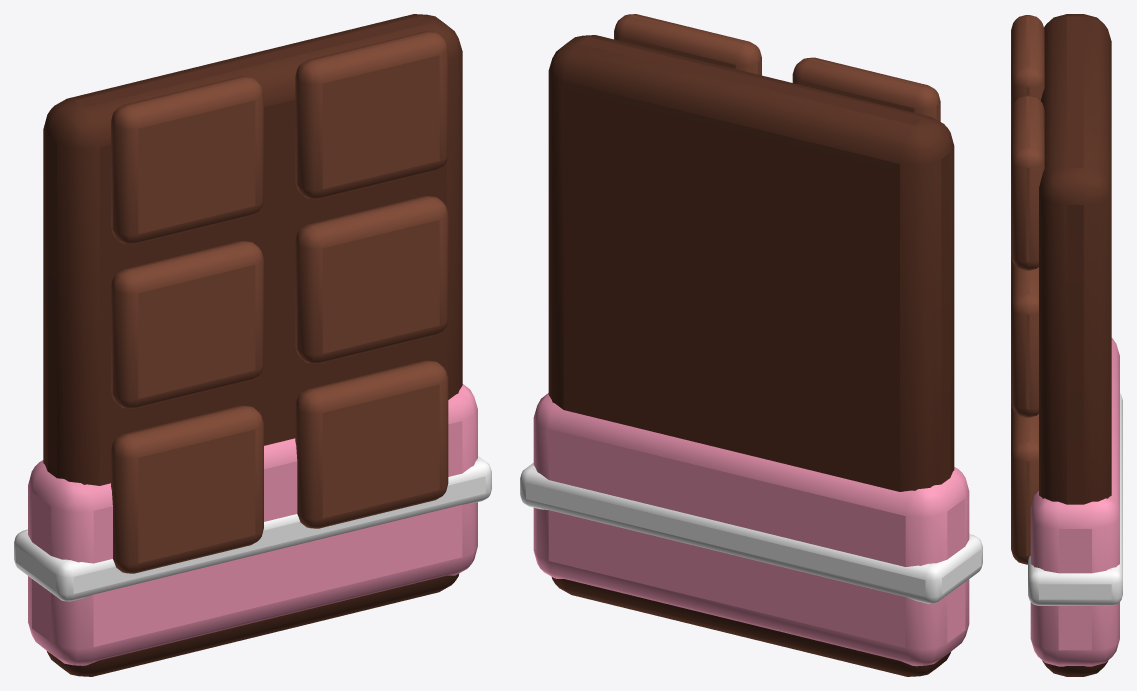
The model's file is chocolate.glb.
The picture shows the model from 3 angles, left to right: view 1: azimuth 30°, elevation 25°; view 2: azimuth 150°, elevation 25°; view 3: azimuth 270°, elevation 25°; orthographic projection. The views are drawn at different scales.
Parts seen in each view (by area): view 1: c7a4430, slab, foil, foil_stripe; view 2: slab, foil, foil_stripe, c7a4430; view 3: slab, c7a4430, foil, foil_stripe.
Boxes of the visible parts, <box> form: c7a4430: <box>111,31,448,573</box>; slab: <box>43,14,462,676</box>; foil: <box>28,384,477,665</box>; foil_stripe: <box>14,456,491,601</box>; slab: <box>548,35,954,676</box>; foil: <box>533,393,969,666</box>; foil_stripe: <box>520,463,982,603</box>; c7a4430: <box>614,14,940,121</box>; slab: <box>1039,14,1111,676</box>; c7a4430: <box>1011,15,1044,564</box>; foil: <box>1030,338,1119,666</box>; foil_stripe: <box>1028,393,1122,605</box>.
Bounding box in the file's own units: 0.8 × 1.02 × 0.2.
